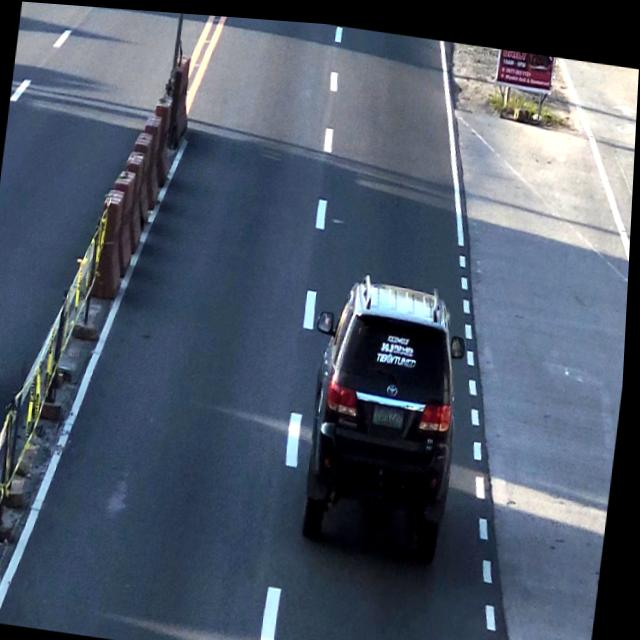Car: (307, 259, 481, 552)
License-Plate: (375, 393, 410, 424)
